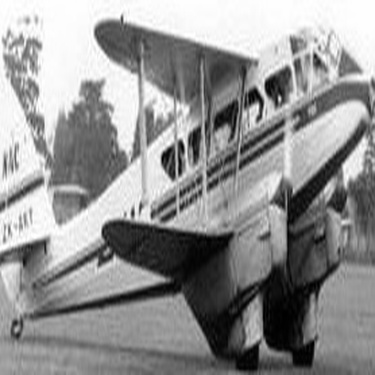airplane: (7, 8, 370, 369)
